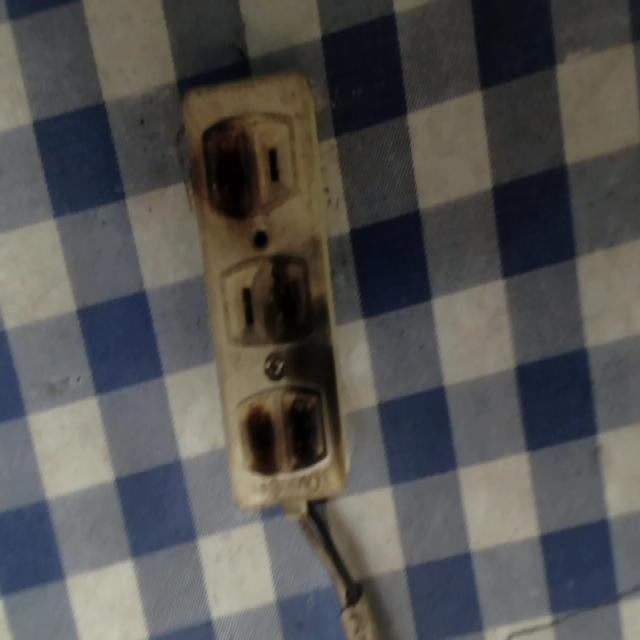-: (195, 107, 263, 236), (231, 381, 314, 480), (265, 247, 320, 348)
